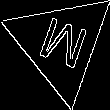M_S: (32, 12, 89, 75)
